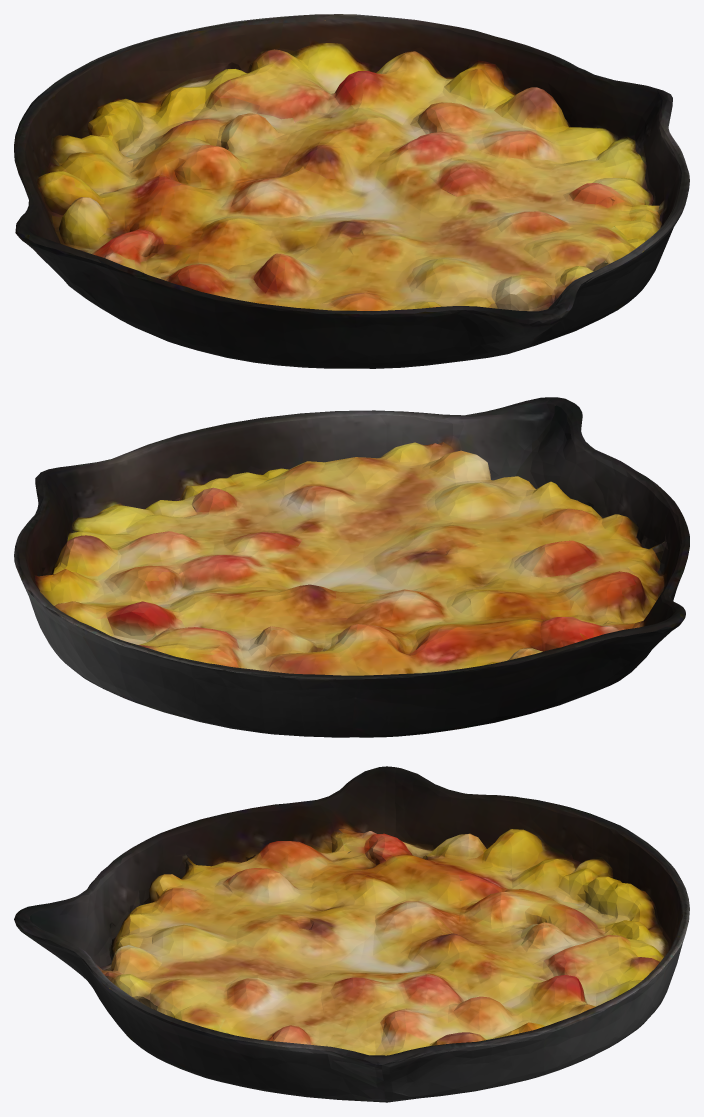
File: p_mac.glb
3 renders of one model, top to bottom at view 1: azimuth 30°, elevation 25°; view 2: azimuth 150°, elevation 25°; view 3: azimuth 270°, elevation 25°, orthographic. The views are drawn at different scales.
Parts seen in each view (by area): view 1: geometry_0; view 2: geometry_0; view 3: geometry_0.
Boxes of the visible parts, box(x1,y1,x2,y2) form: geometry_0: box(14, 14, 689, 368); geometry_0: box(14, 397, 689, 737); geometry_0: box(14, 766, 689, 1102).
Size of the model in its own units: 0.9922 by 0.1347 by 0.9971.
1 material, 1 textured.
